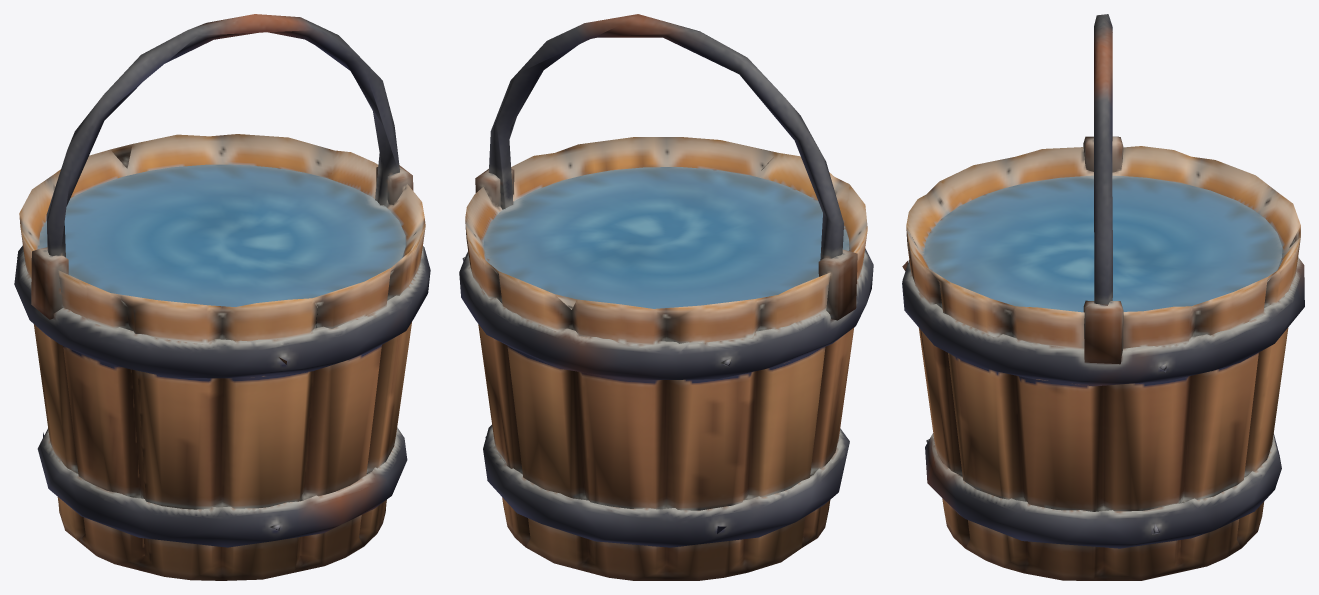
The model's file is water_bucket.glb.
3 renders of one model, left to right at view 1: azimuth 30°, elevation 25°; view 2: azimuth 150°, elevation 25°; view 3: azimuth 270°, elevation 25°, orthographic. The views are drawn at different scales.
Parts seen in each view (by area): view 1: water_bucket; view 2: water_bucket; view 3: water_bucket.
Part boxes in pixels (box(x1,y1,x2,y2)): water_bucket: box(14, 14, 430, 580); water_bucket: box(459, 14, 873, 580); water_bucket: box(902, 14, 1304, 580).
Size of the model in its own units: 0.5196 by 0.6698 by 0.5083.
Materials: 1 (1 with a texture image).
